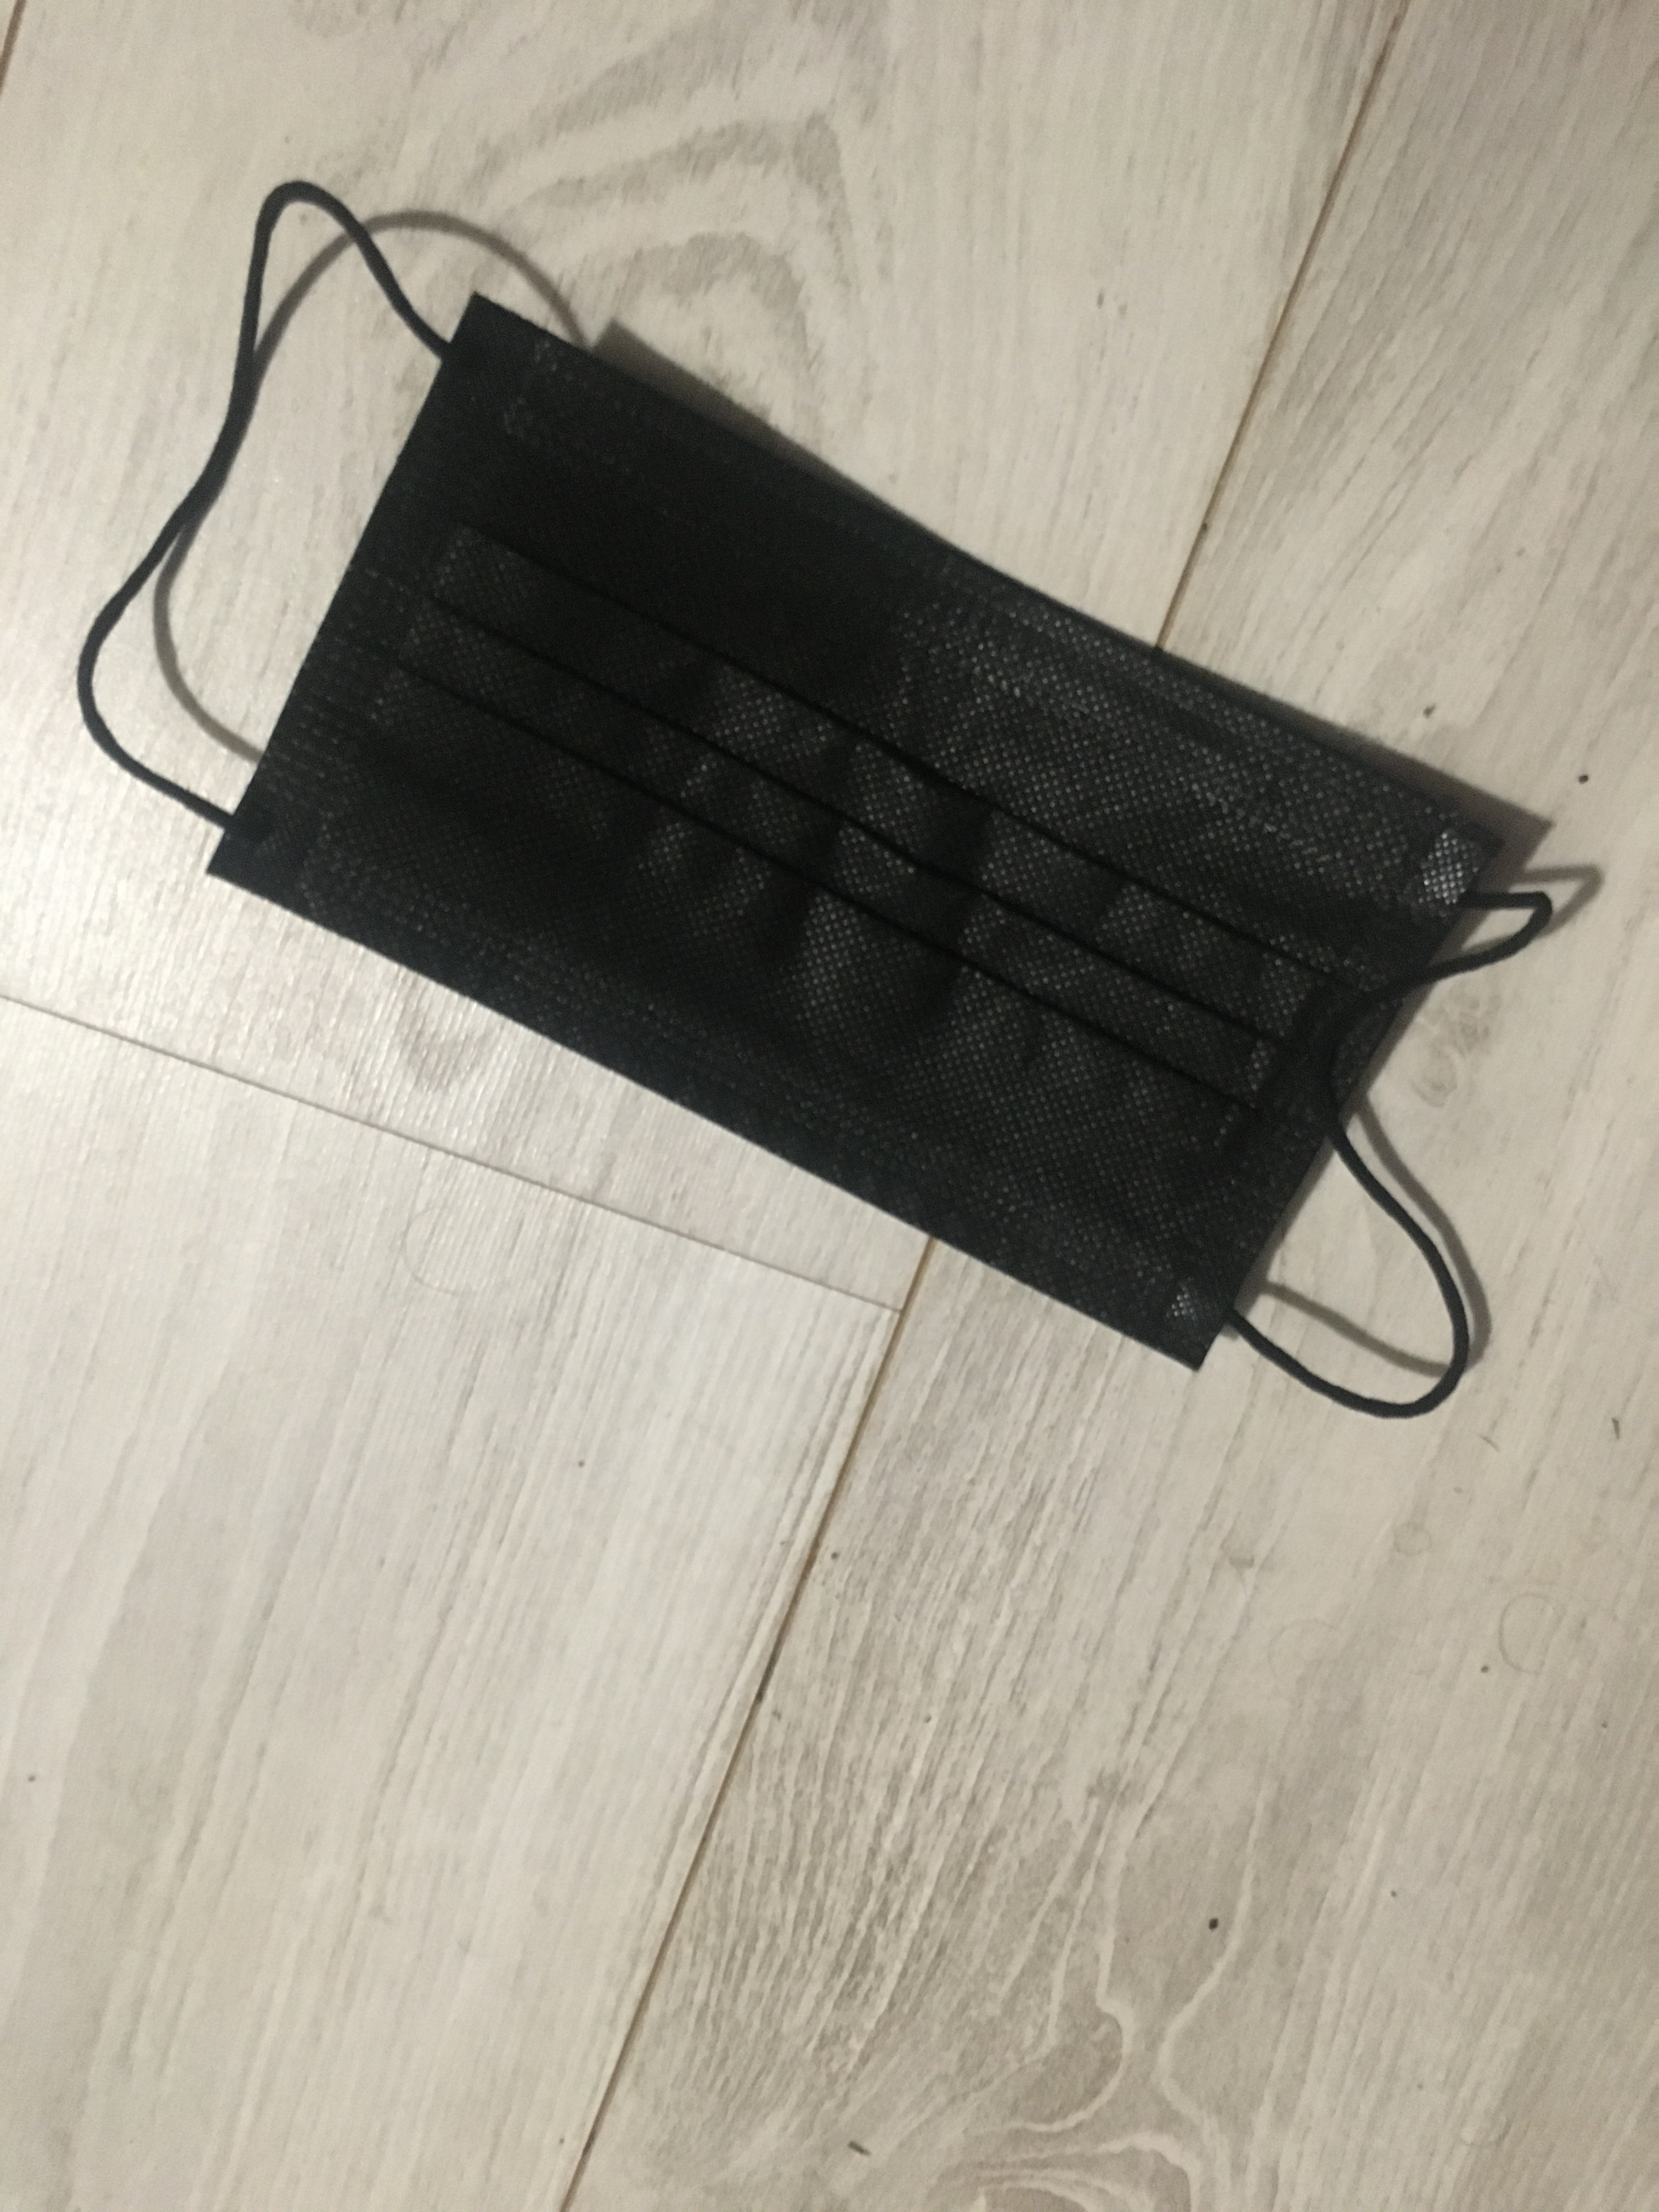trash: (85, 183, 1553, 1406)
